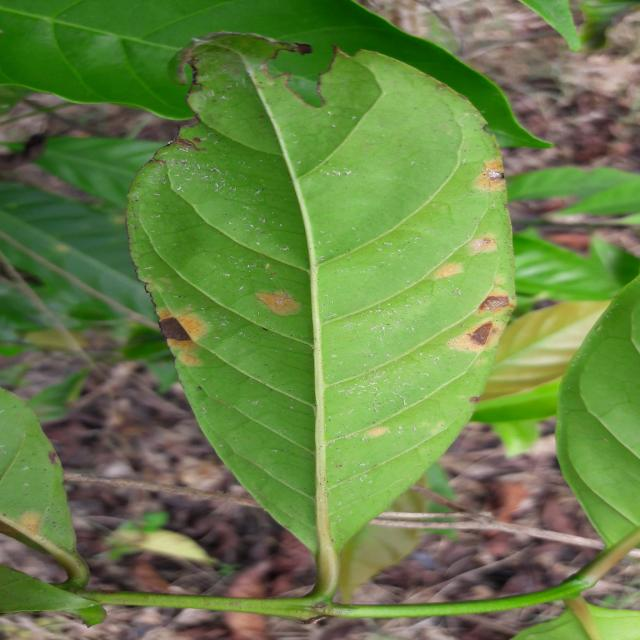Enfermedad-Roya: (126, 31, 516, 575)
